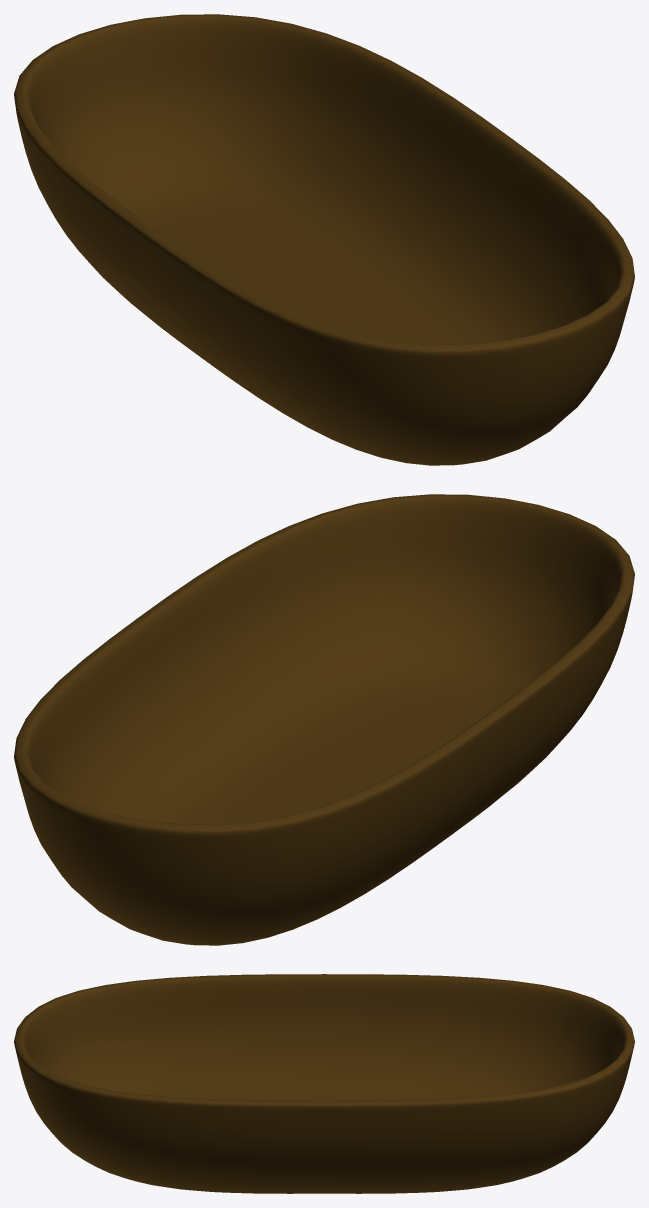
Rendered from boat.glb.
3 renders of one model, top to bottom at view 1: azimuth 30°, elevation 25°; view 2: azimuth 150°, elevation 25°; view 3: azimuth 270°, elevation 25°, orthographic. The views are drawn at different scales.
Visible parts, largest first — view 1: boat; view 2: boat; view 3: boat.
Part boxes in pixels (x1,y1,x2,y2): boat: (14,14,634,465); boat: (14,494,634,945); boat: (14,974,634,1193).
Size of the model in its own units: 1.29 by 0.6547 by 2.57.
